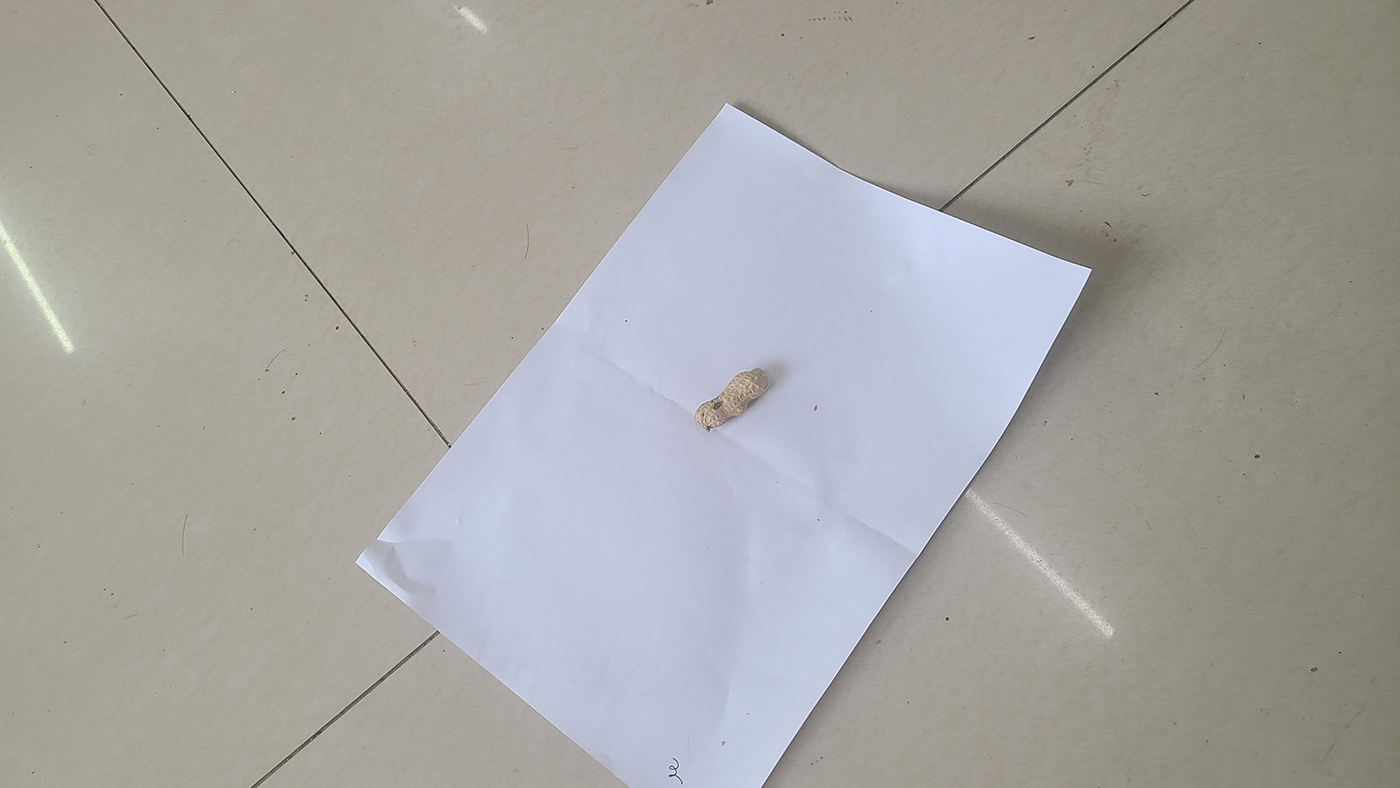h: (694, 367, 770, 431)
